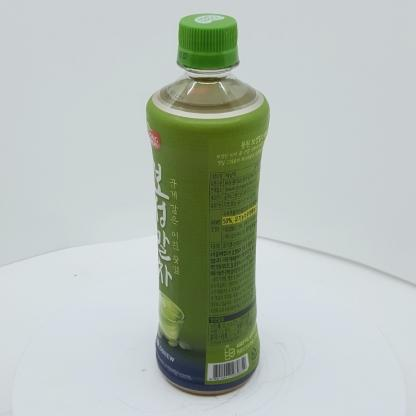------500ML: (146, 14, 270, 396)
